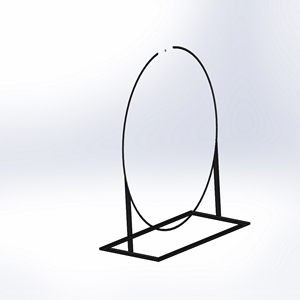circle: (97, 44, 250, 263)
